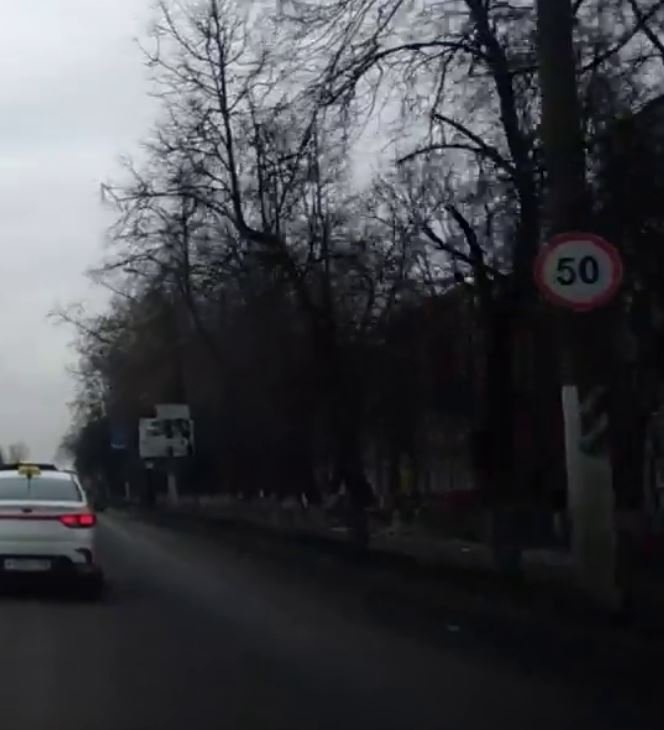50 Km Hiz Siniri: (538, 231, 621, 311)
